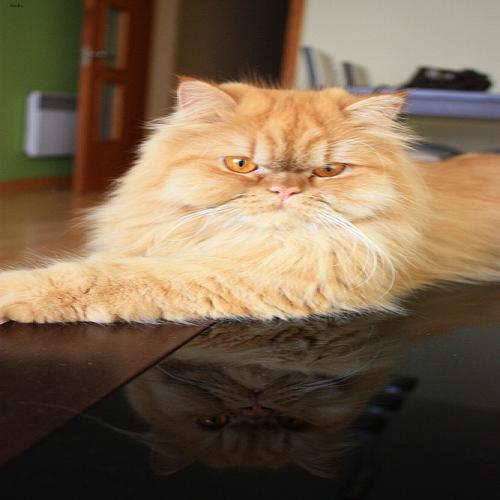persian: (147, 63, 414, 248)
